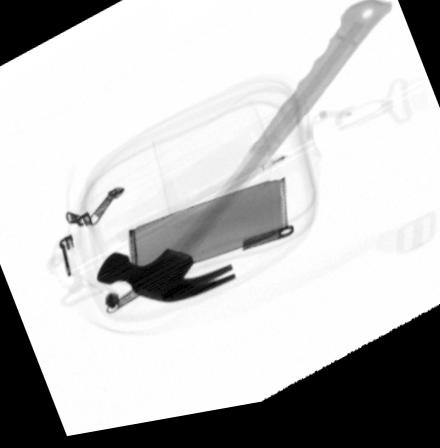Hammer: (95, 10, 395, 309)
